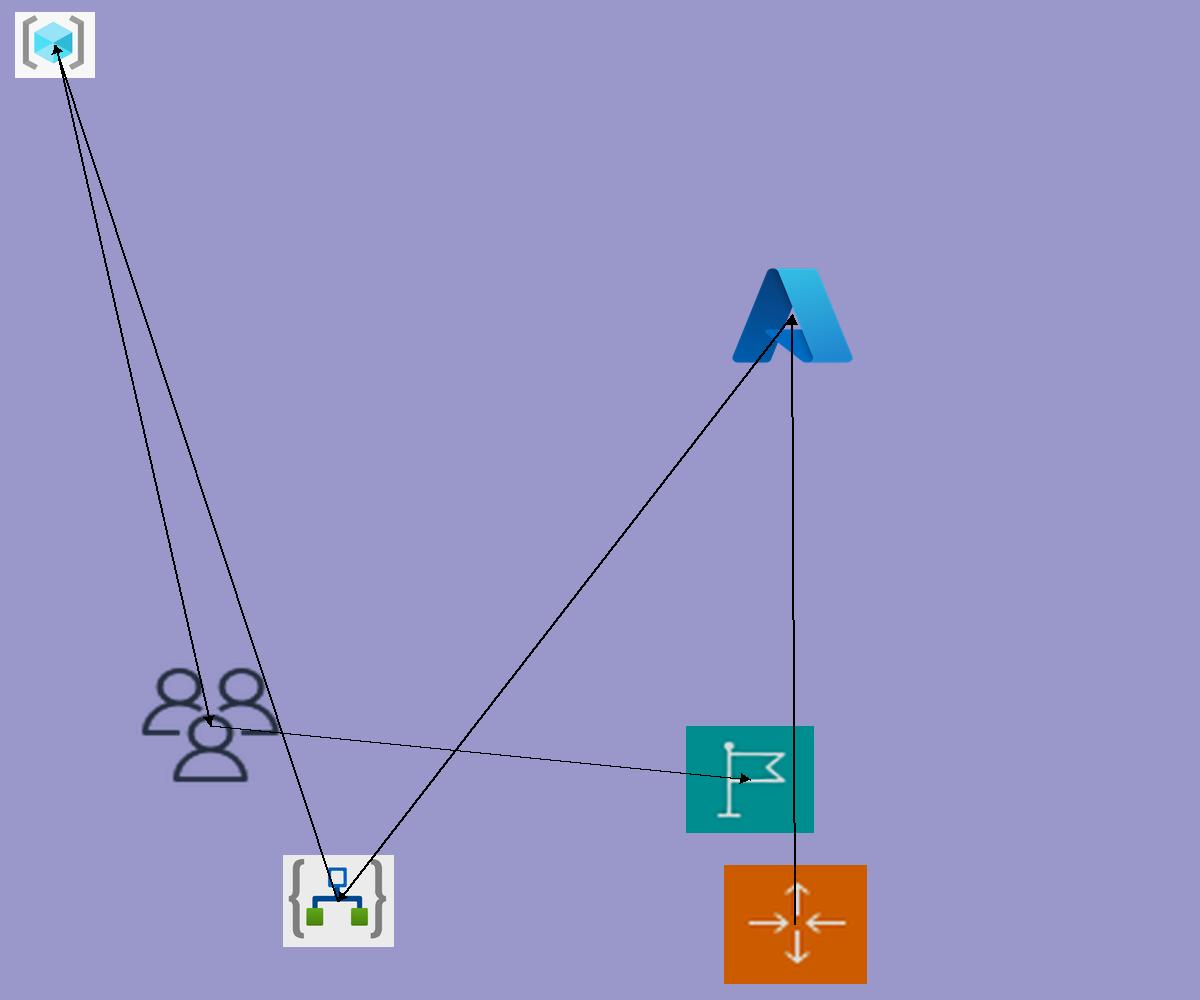AWS-Region: (686, 726, 814, 833)
AWS-Res_Users: (136, 663, 285, 787)
AWS-Scaling-group: (724, 865, 867, 984)
Azure_integration-204-Logic-Apps: (283, 855, 394, 947)
Azure_resource_group: (15, 12, 95, 78)
Azure_services: (727, 261, 858, 370)
